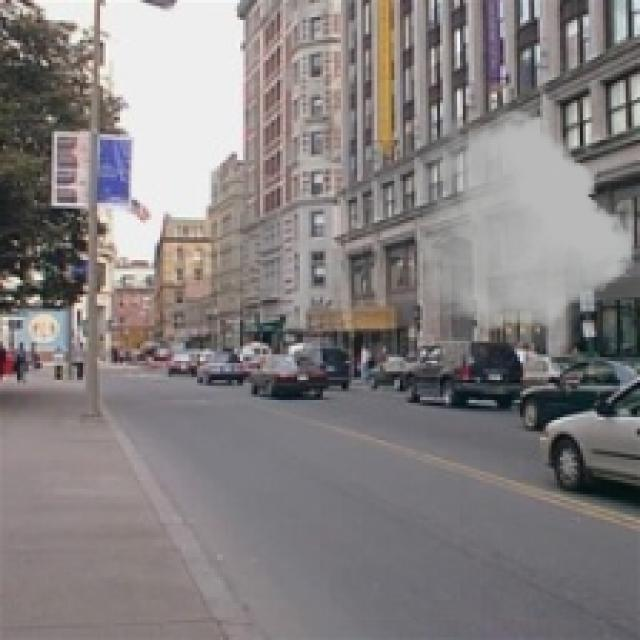smoke: (417, 106, 634, 360)
